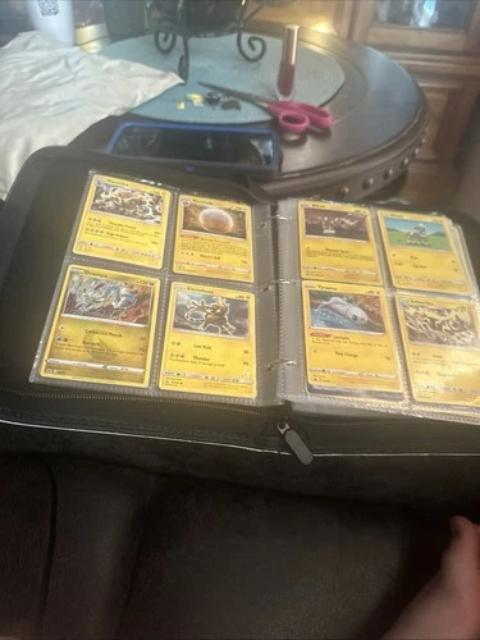Card: (34, 259, 168, 390), (154, 277, 263, 402), (298, 277, 408, 396), (65, 169, 177, 275), (390, 290, 479, 410), (373, 205, 477, 299), (294, 196, 388, 288), (170, 192, 258, 287)
Name: (181, 282, 218, 299), (79, 266, 114, 283), (405, 293, 438, 311), (100, 176, 136, 191), (188, 194, 220, 209), (312, 282, 345, 295), (382, 208, 410, 223), (304, 199, 331, 212)
